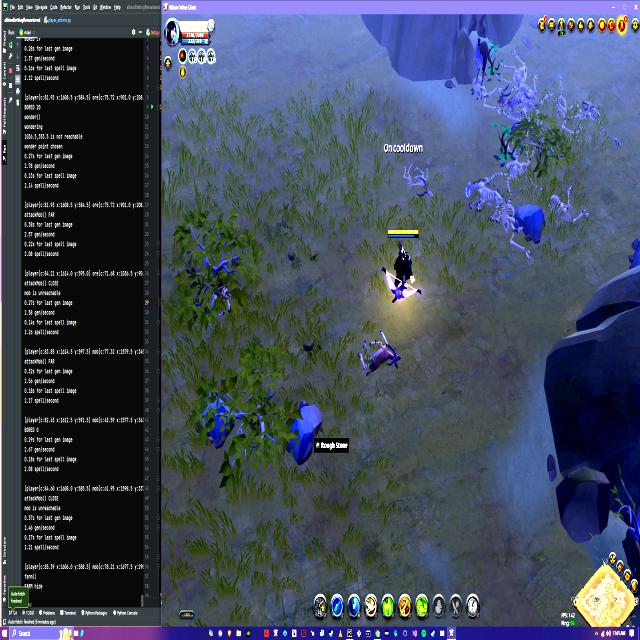mob: (357, 330, 401, 378)
ore: (472, 32, 491, 100)
red: (384, 225, 420, 302)
